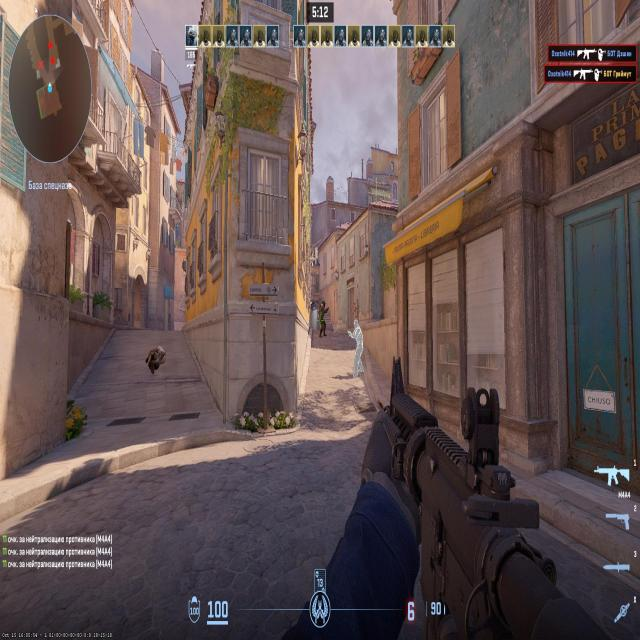CT: (321, 300, 326, 333)
CT_heat: (321, 302, 324, 309)
